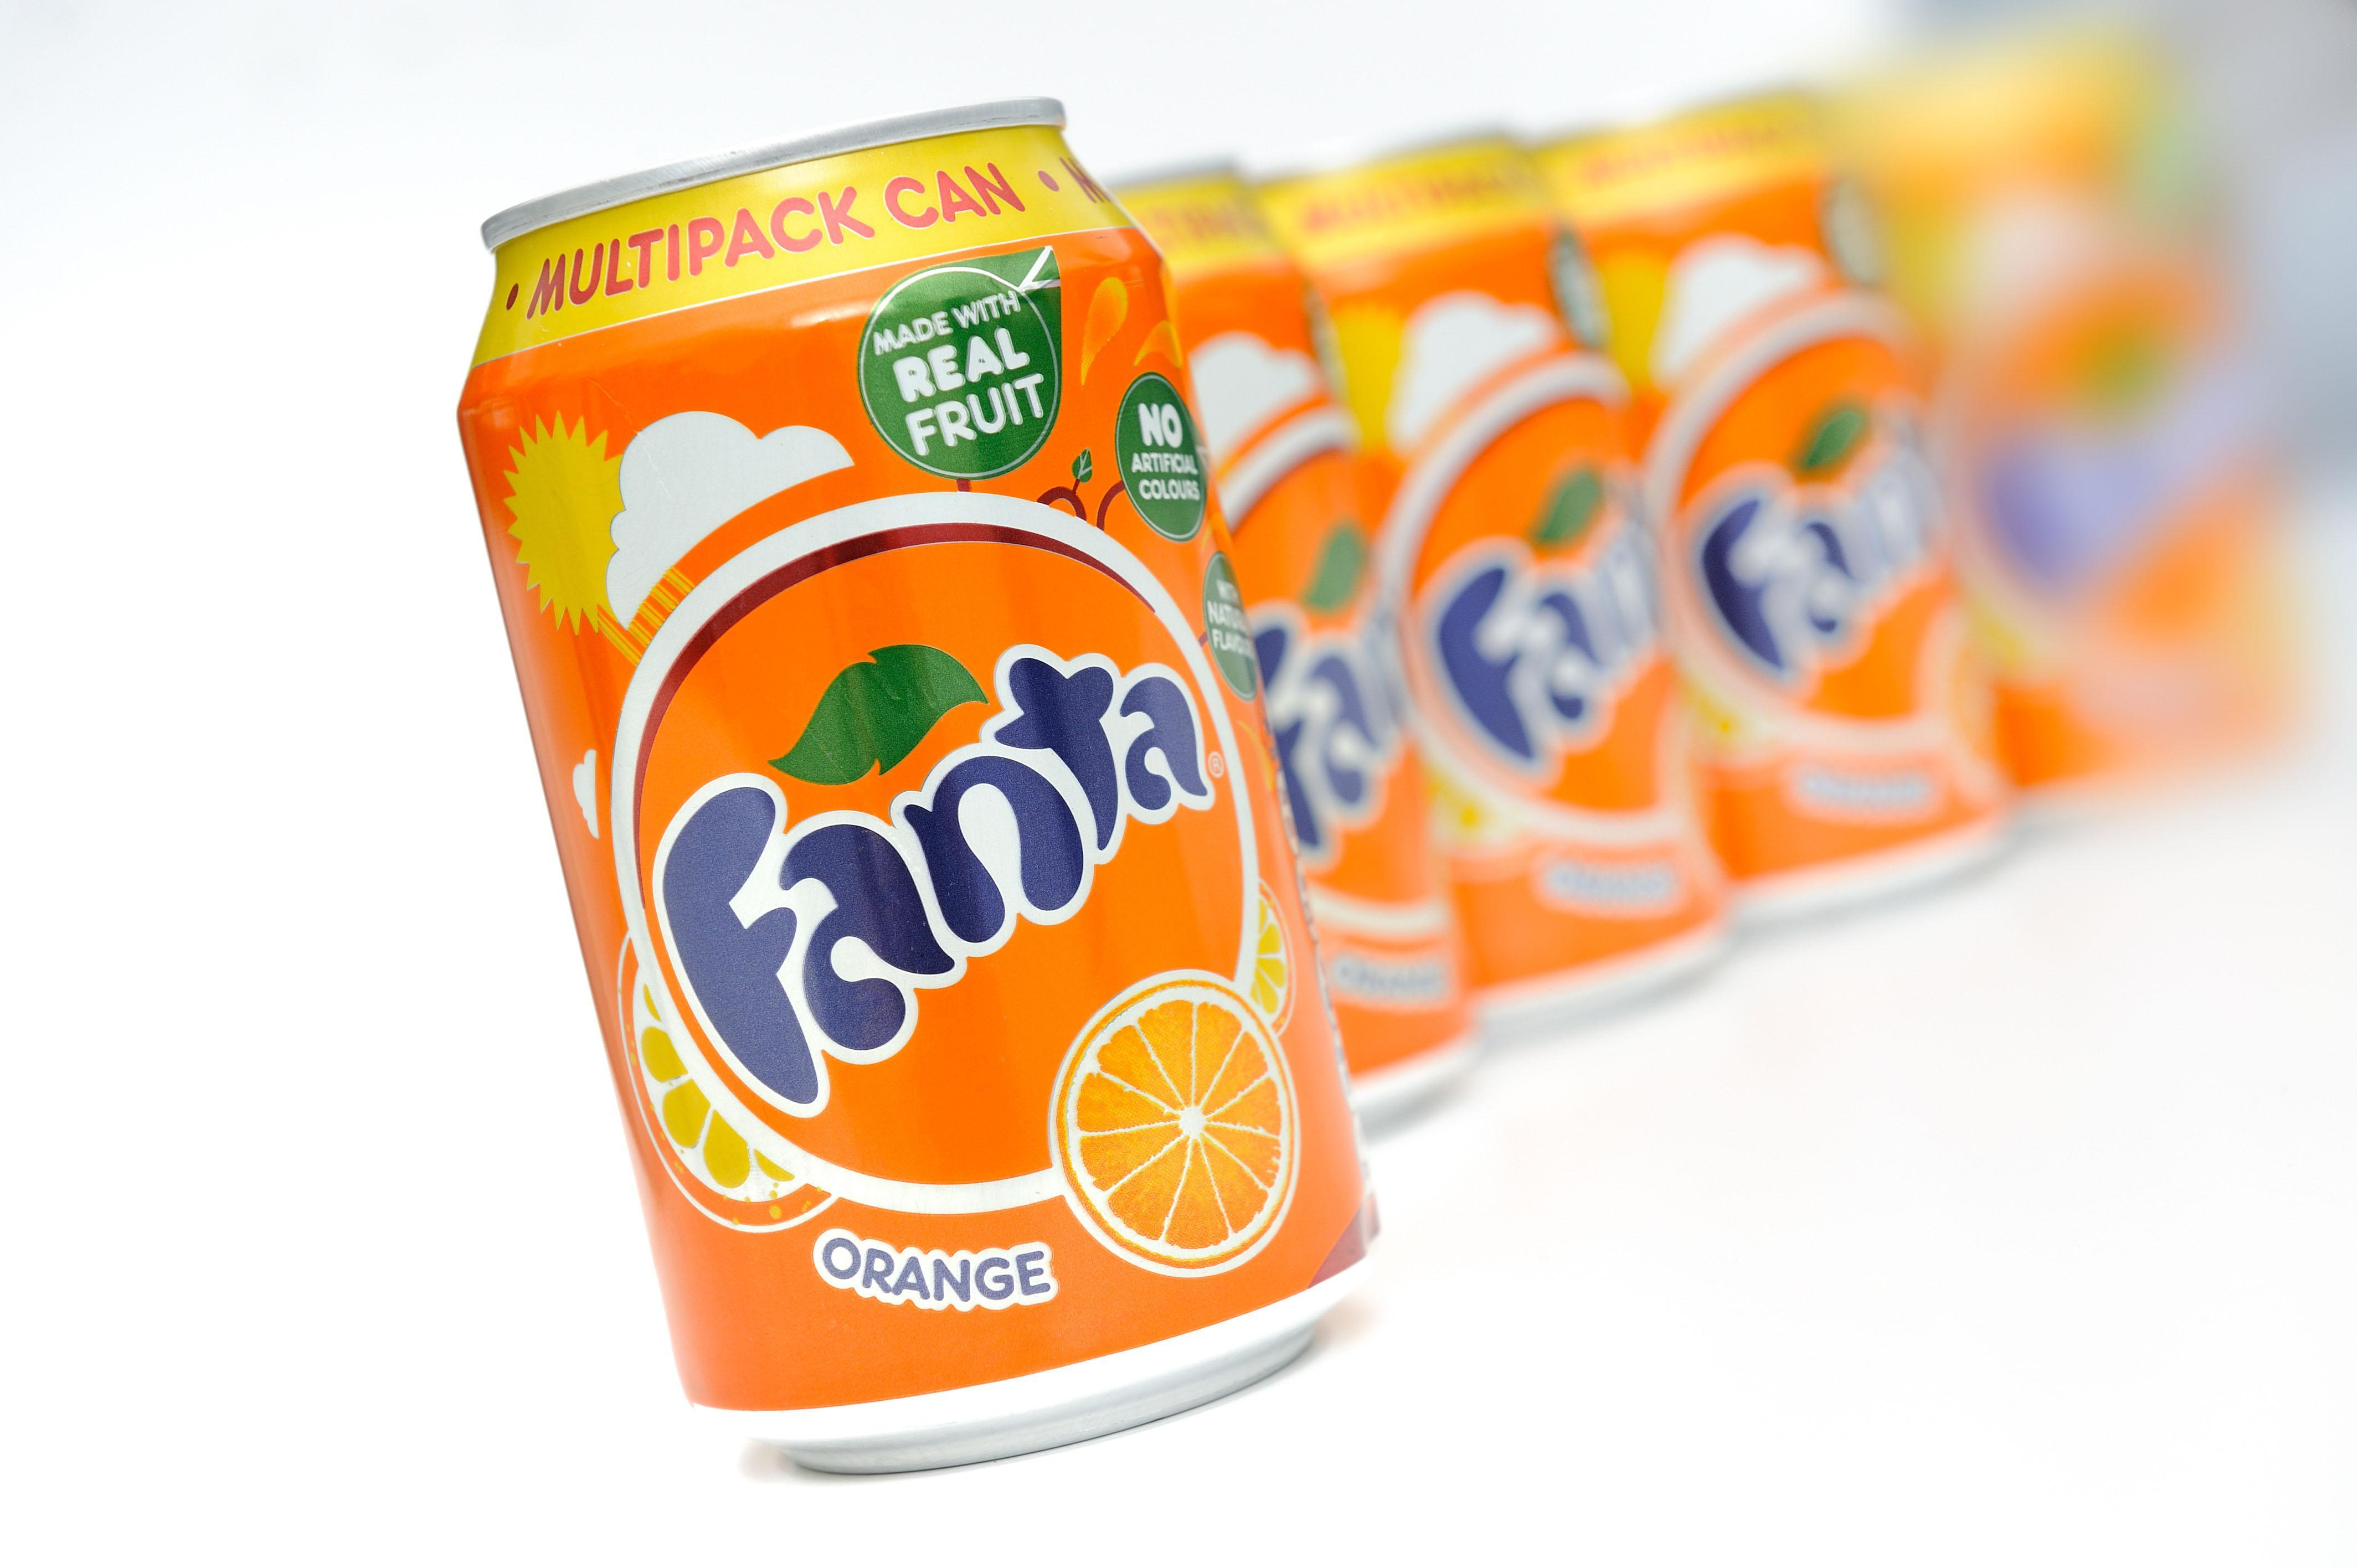Fanta: (366, 205, 1403, 1438)
